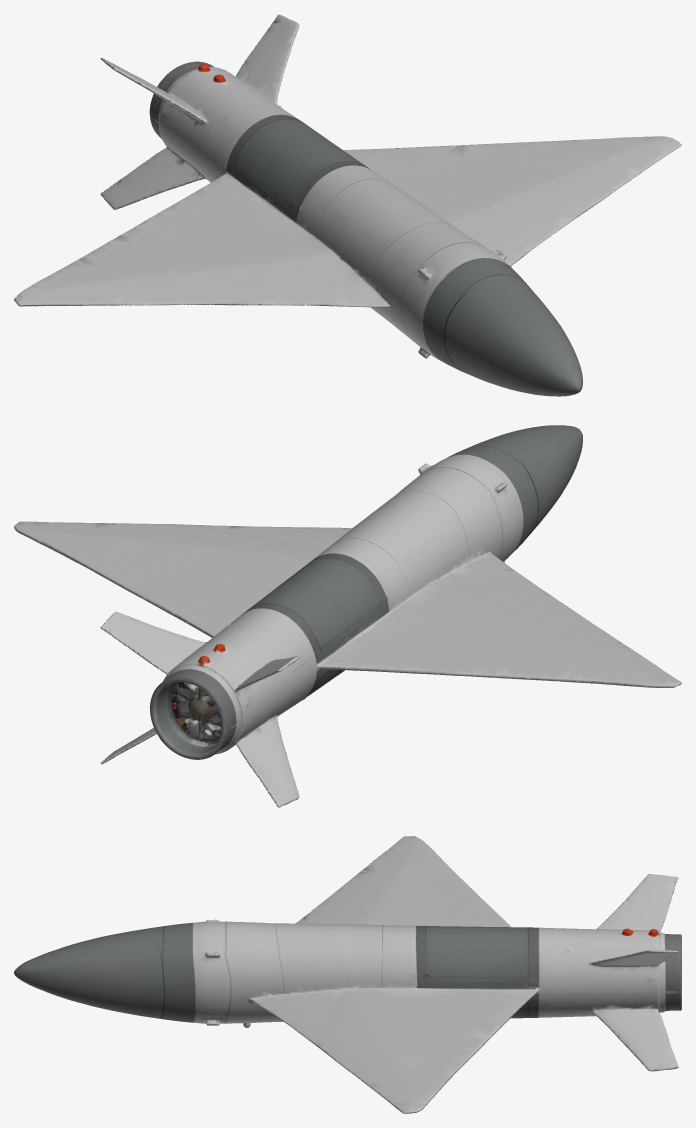
Rendered from hero.glb.
The picture shows the model from 3 angles, top to bottom: view 1: azimuth 30°, elevation 25°; view 2: azimuth 150°, elevation 25°; view 3: azimuth 270°, elevation 25°; orthographic projection. The views are drawn at different scales.
Visible parts, largest first — view 1: tripo_node_986a54ed-9fd3-401f-a868-277e29587770; view 2: tripo_node_986a54ed-9fd3-401f-a868-277e29587770; view 3: tripo_node_986a54ed-9fd3-401f-a868-277e29587770.
Part boxes in pixels (x1,y1,x2,y2): tripo_node_986a54ed-9fd3-401f-a868-277e29587770: [14, 14, 681, 396]; tripo_node_986a54ed-9fd3-401f-a868-277e29587770: [14, 425, 681, 807]; tripo_node_986a54ed-9fd3-401f-a868-277e29587770: [14, 836, 681, 1113].
Bounding box in the file's own units: 0.9775 × 0.2006 × 1.
1 material, 1 textured.
